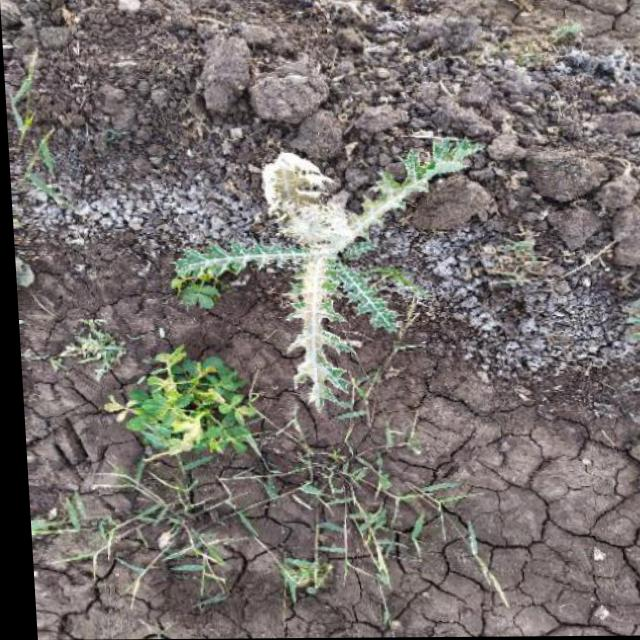weed: (82, 336, 553, 621), (166, 98, 487, 400)
